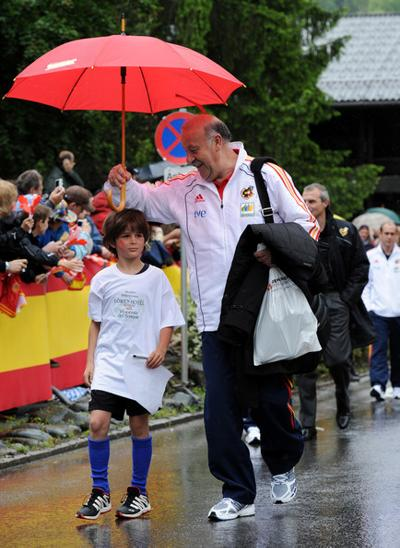person: (105, 112, 322, 524)
